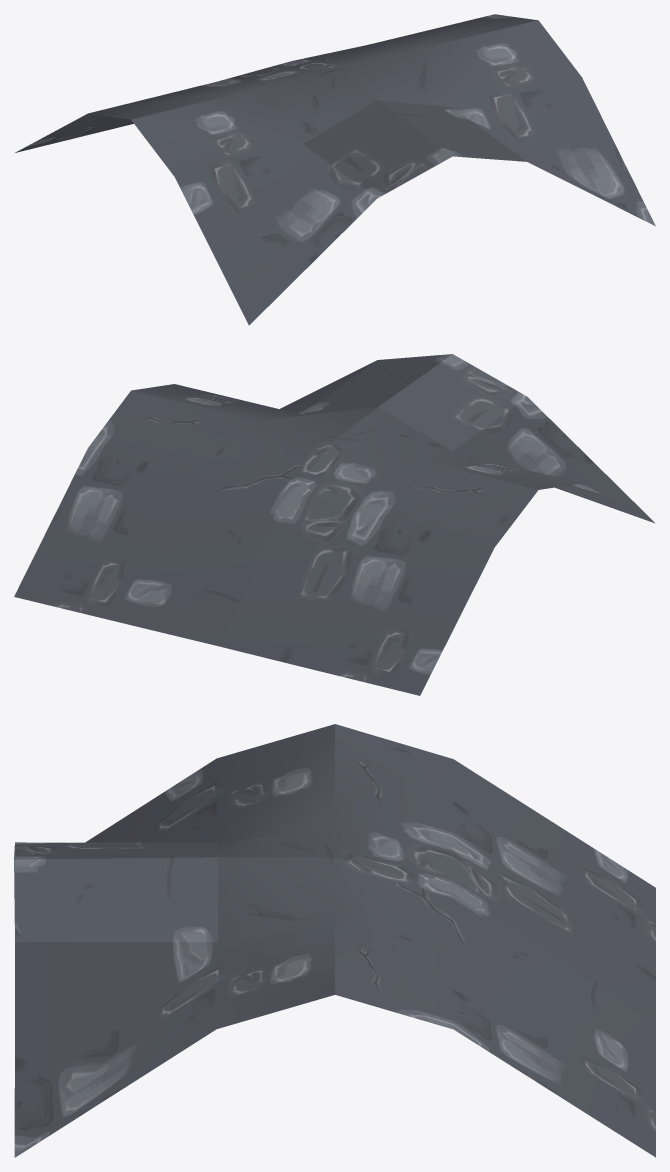
Rendered from Techo_5.fbx.
The picture shows the model from 3 angles, top to bottom: view 1: azimuth 30°, elevation 25°; view 2: azimuth 150°, elevation 25°; view 3: azimuth 270°, elevation 25°; orthographic projection. The views are drawn at different scales.
Parts seen in each view (by area): view 1: Techos4; view 2: Techos4; view 3: Techos4.
Boxes of the visible parts, bbox=[...] form: Techos4: bbox=[15, 14, 655, 325]; Techos4: bbox=[14, 354, 655, 695]; Techos4: bbox=[14, 724, 655, 1157].
Size of the model in its own units: 14.02 by 3.99 by 14.04.
